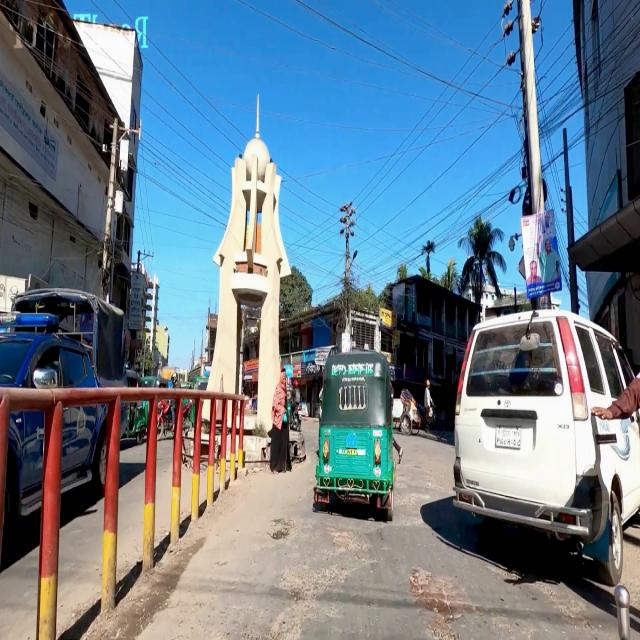white: (448, 301, 640, 585)
